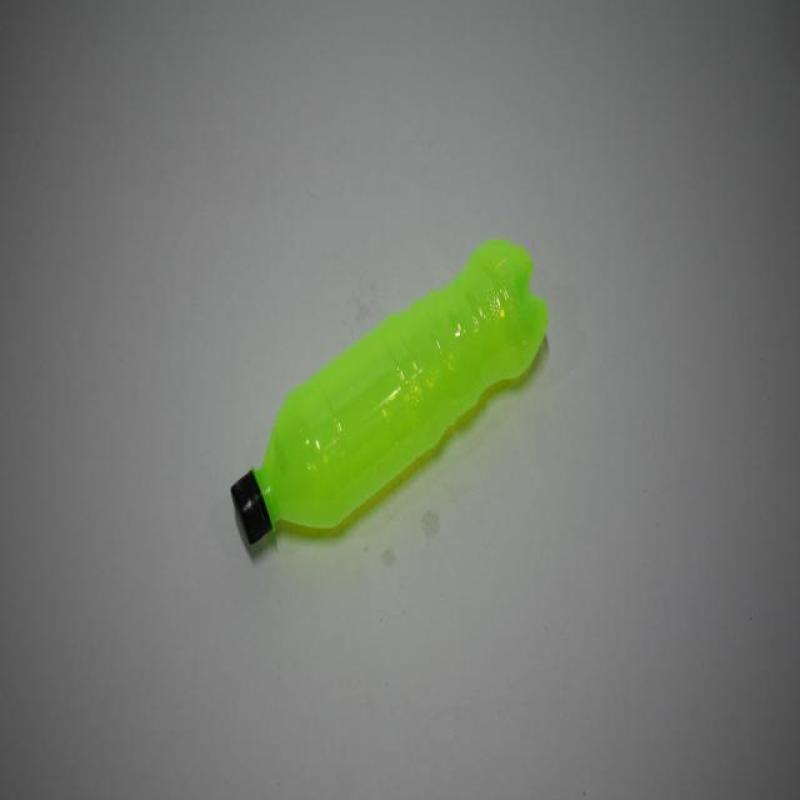botella: (230, 238, 550, 542)
